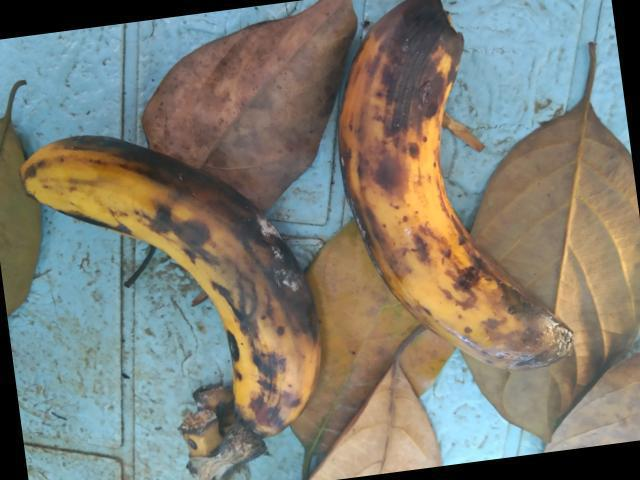rotten: (18, 115, 347, 452), (326, 3, 594, 384)
